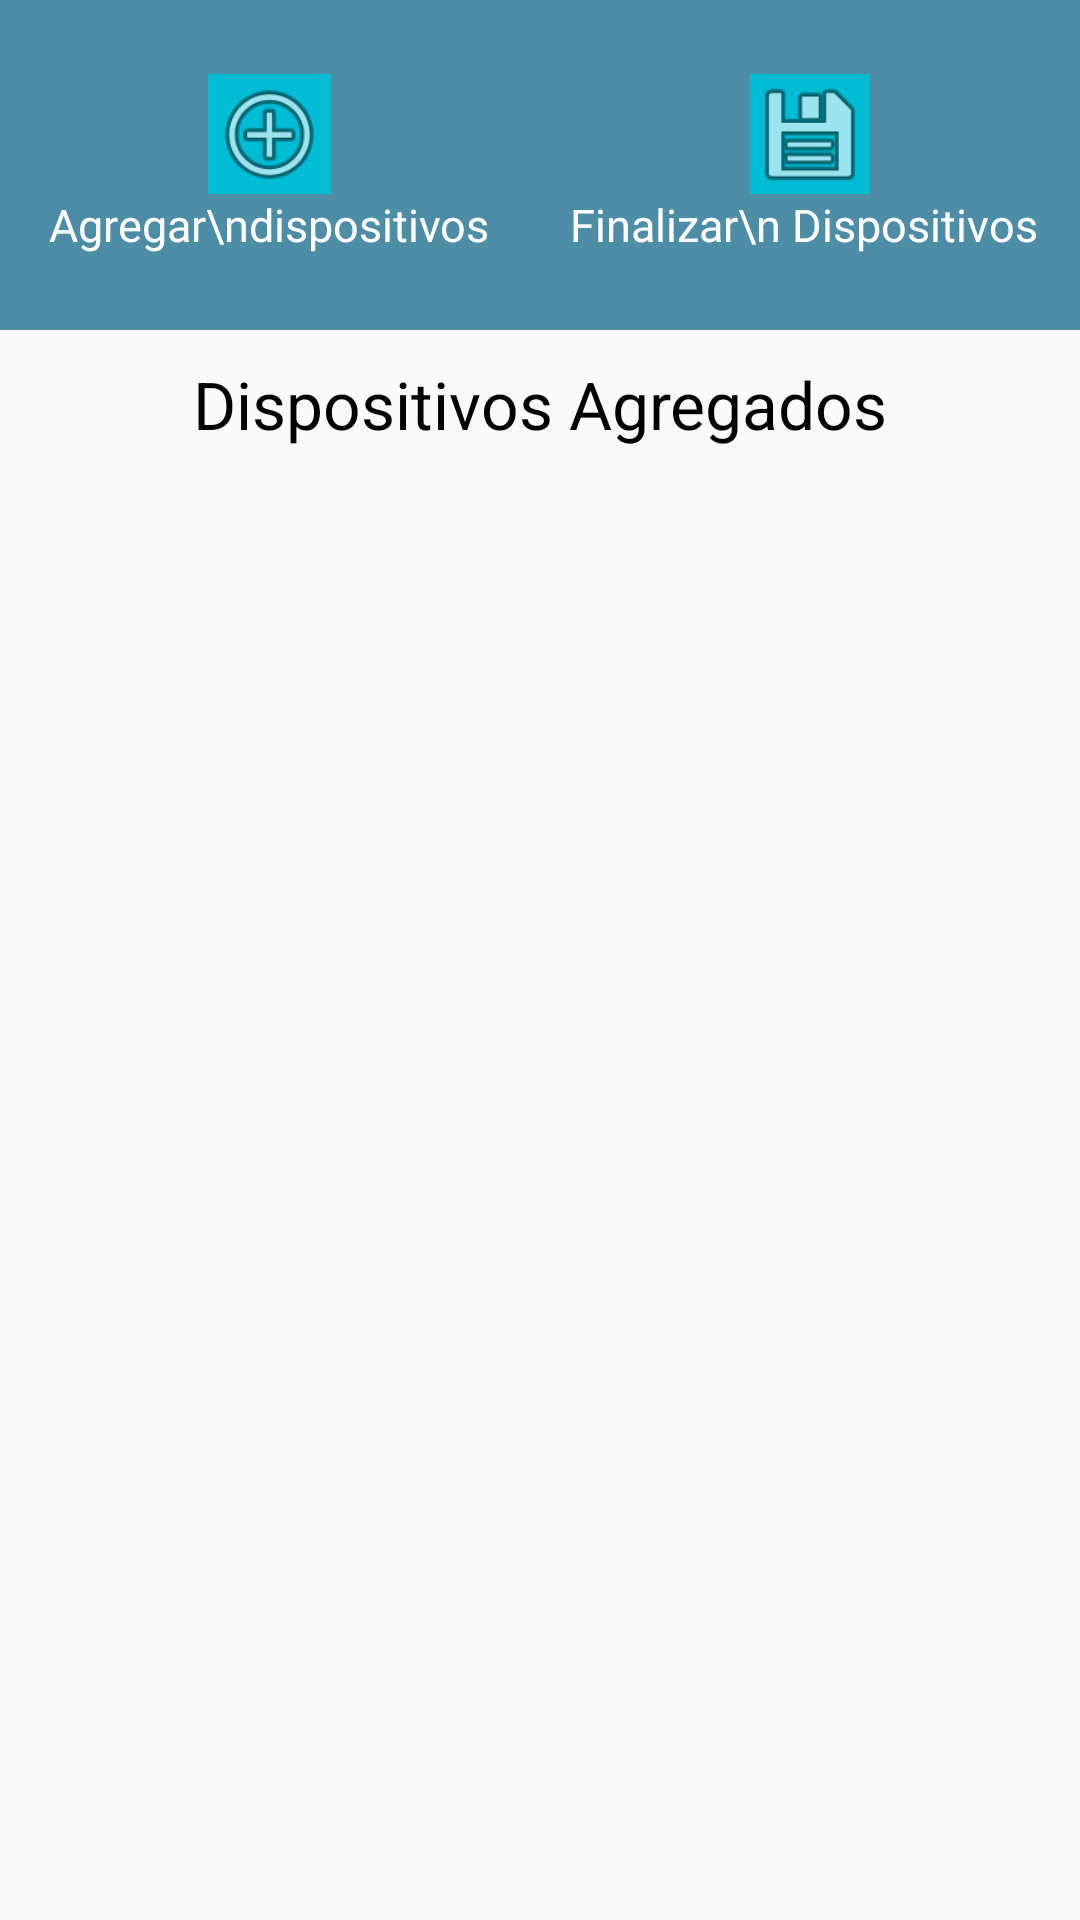

Named icons in this screenshot (1080 × 1920) and their centers, [x,y]:
add: [269,134]
save: [810,134]
